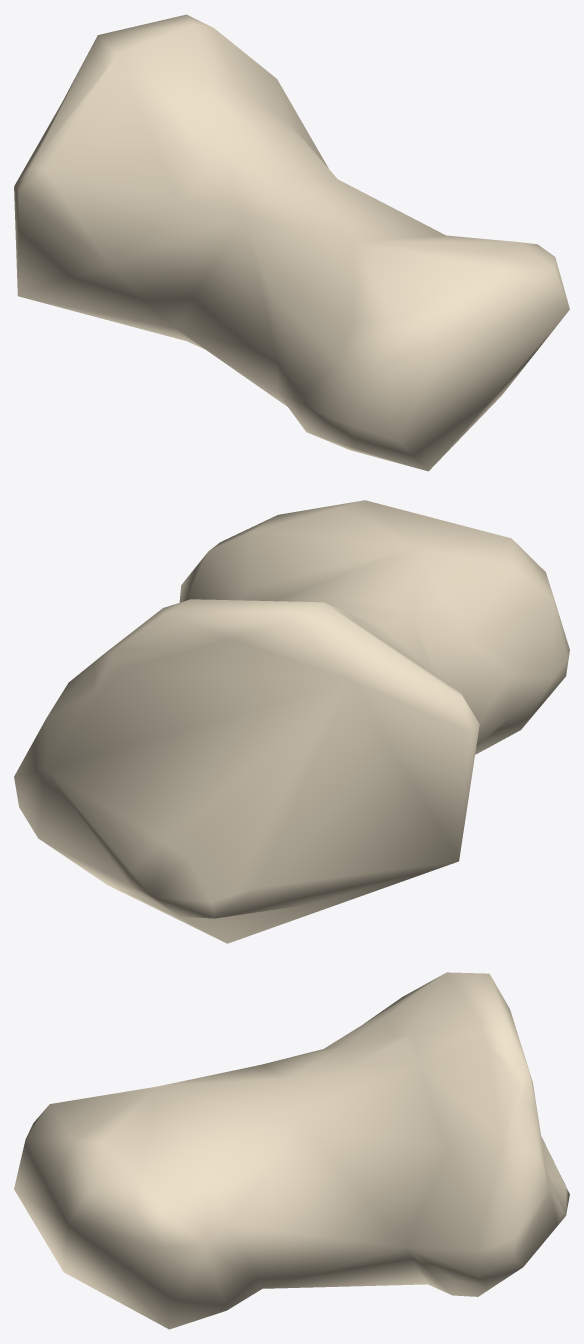
File: distal-phalanx-of-second-finger-of-foot-l.glb
The picture shows the model from 3 angles, top to bottom: view 1: azimuth 30°, elevation 25°; view 2: azimuth 150°, elevation 25°; view 3: azimuth 270°, elevation 25°; orthographic projection. The views are drawn at different scales.
Parts seen in each view (by area): view 1: Distal phalanx of second finger of foot.l; view 2: Distal phalanx of second finger of foot.l; view 3: Distal phalanx of second finger of foot.l.
Boxes of the visible parts, <box> form: Distal phalanx of second finger of foot.l: <box>14,14,569,471</box>; Distal phalanx of second finger of foot.l: <box>14,500,569,943</box>; Distal phalanx of second finger of foot.l: <box>14,972,569,1329</box>.
Bounding box in the file's own units: 0.0102 × 0.00758 × 0.0137.
